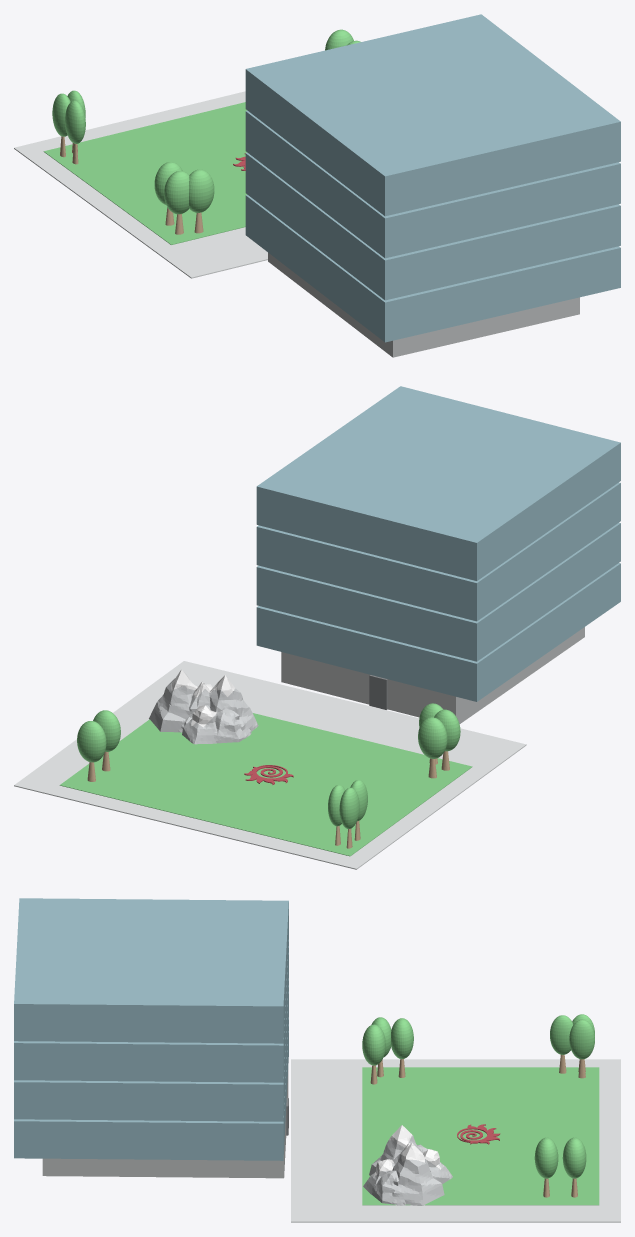
The model's file is etb-outside5.glb.
The picture shows the model from 3 angles, top to bottom: view 1: azimuth 30°, elevation 25°; view 2: azimuth 150°, elevation 25°; view 3: azimuth 270°, elevation 25°; orthographic projection. The views are drawn at different scales.
Parts seen in each view (by area): view 1: Mesh_Mesh_head_geo.001_lambert2SG.001, Mesh_Mesh_head_geo.001_lambert2SG.002; view 2: Mesh_Mesh_head_geo.001_lambert2SG.001, Mesh_Mesh_head_geo.001_lambert2SG.002; view 3: Mesh_Mesh_head_geo.001_lambert2SG.001, Mesh_Mesh_head_geo.001_lambert2SG.002.
Part boxes in pixels (left/top/right/bottom): Mesh_Mesh_head_geo.001_lambert2SG.001: left=245, top=14, right=620, bottom=357; Mesh_Mesh_head_geo.001_lambert2SG.002: left=14, top=29, right=360, bottom=278; Mesh_Mesh_head_geo.001_lambert2SG.001: left=256, top=386, right=620, bottom=723; Mesh_Mesh_head_geo.001_lambert2SG.002: left=14, top=661, right=526, bottom=869; Mesh_Mesh_head_geo.001_lambert2SG.001: left=14, top=898, right=288, bottom=1178; Mesh_Mesh_head_geo.001_lambert2SG.002: left=291, top=1014, right=620, bottom=1222.
Size of the model in its own units: 178 by 94 by 281.
